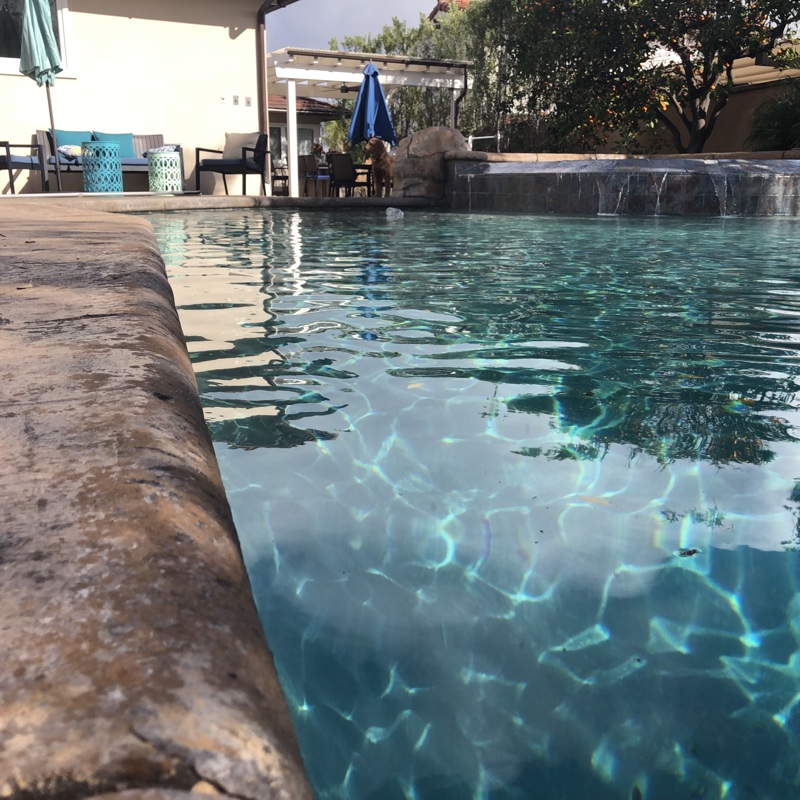Plastic Bottle: (384, 206, 405, 221)
